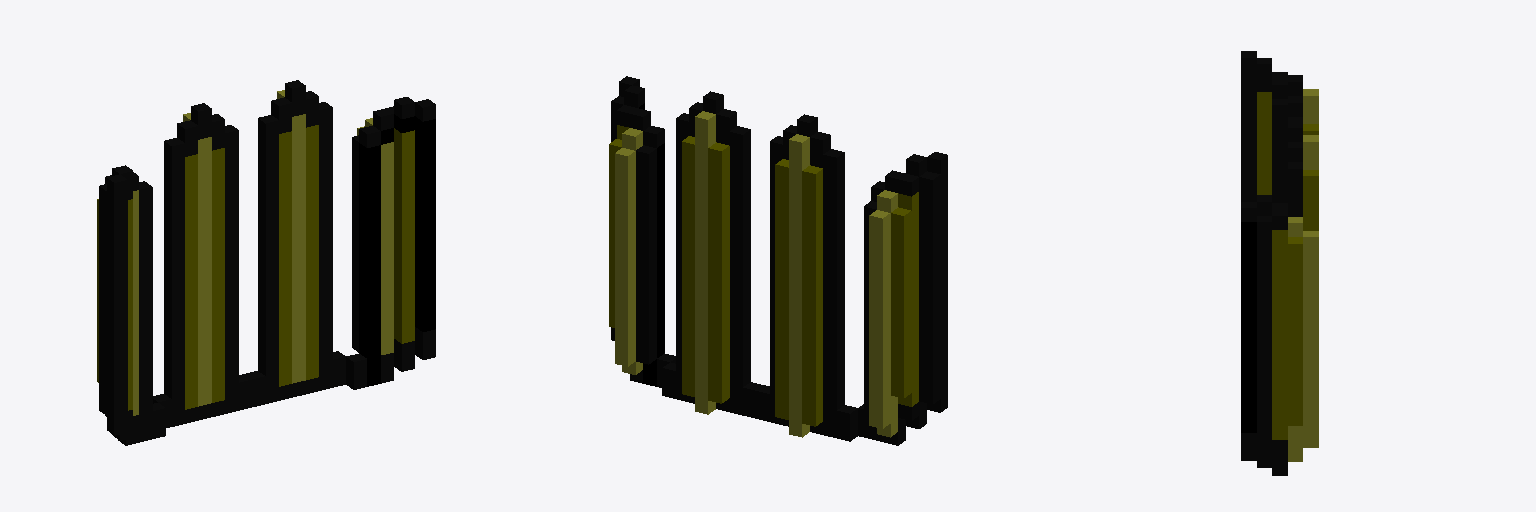
3 views of the same model, side by side, from view 1: azimuth 30°, elevation 25°; view 2: azimuth 150°, elevation 25°; view 3: azimuth 270°, elevation 25° (orthographic).
Parts seen in each view (by area): view 1: object 1; view 2: object 1; view 3: object 1.
Part boxes in pixels (x1,y1,x2,y2): object 1: (97,80,435,445); object 1: (609,76,947,445); object 1: (1241,51,1318,475).
Bounding box in the file's own units: 2.4 × 2.2 × 0.5.
Materials: 1 (1 with a texture image).